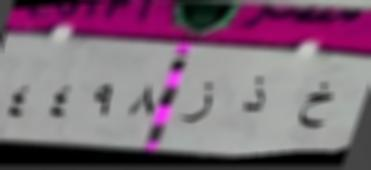4: (44, 83, 76, 128), (2, 82, 36, 124)
8: (126, 80, 156, 122)
9: (91, 79, 117, 122)
khaa: (292, 76, 336, 141)
zaal: (235, 76, 270, 116)
zay: (182, 80, 218, 130)
